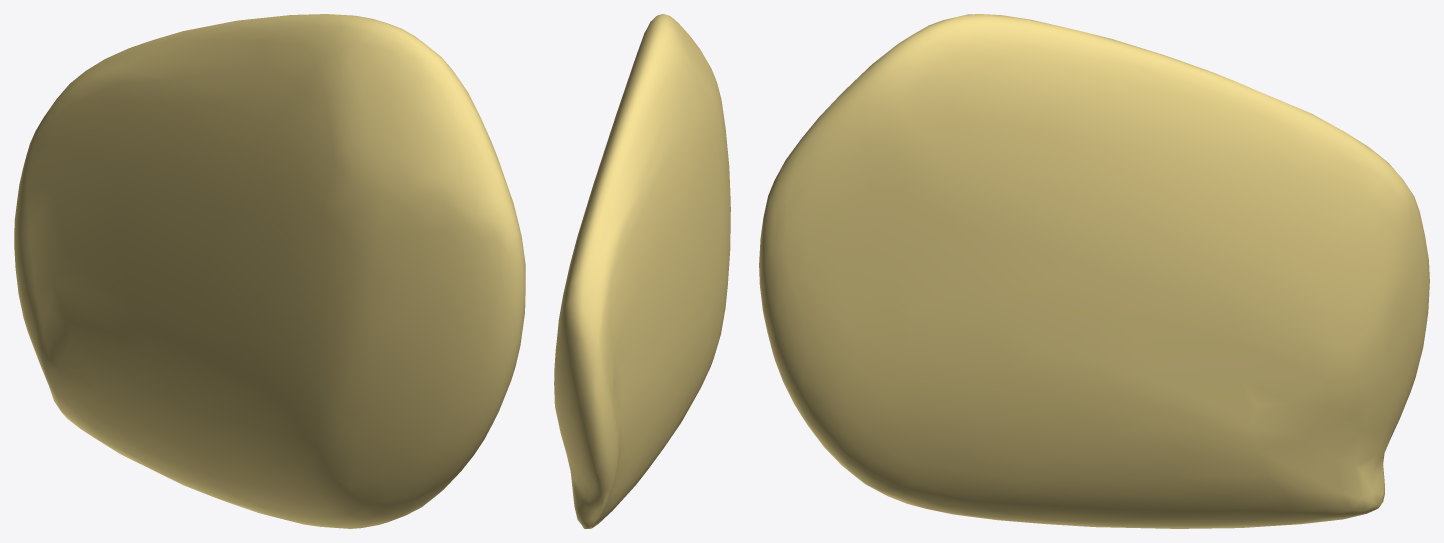
File: fma73360_fj7491.glb
3 renders of one model, left to right at view 1: azimuth 30°, elevation 25°; view 2: azimuth 150°, elevation 25°; view 3: azimuth 270°, elevation 25°, orthographic. The views are drawn at different scales.
Visible parts, largest first — view 1: FMA73360_FJ7491; view 2: FMA73360_FJ7491; view 3: FMA73360_FJ7491.
Boxes of the visible parts, x1,y1,x2,y2 form: FMA73360_FJ7491: (14,14,525,528); FMA73360_FJ7491: (554,14,730,528); FMA73360_FJ7491: (759,14,1429,528).
Size of the model in its own units: 0.00398 by 0.00973 by 0.0108.
